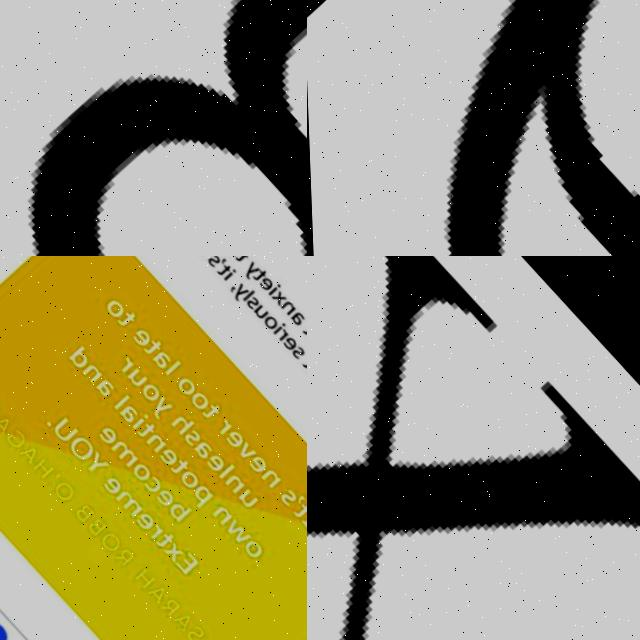8: (0, 0, 307, 256)
9: (307, 0, 640, 256)
A: (168, 603, 191, 627), (143, 575, 165, 598), (16, 439, 38, 462), (116, 397, 138, 419), (190, 431, 211, 454), (149, 342, 170, 364), (92, 372, 114, 393), (286, 300, 306, 320), (0, 410, 10, 432)
B: (163, 490, 189, 517), (82, 511, 103, 533), (71, 497, 91, 519)
C: (140, 468, 161, 490)
D: (66, 339, 93, 366)
E: (171, 543, 196, 570), (221, 419, 244, 443), (98, 469, 121, 493), (151, 479, 173, 503), (129, 320, 151, 343), (202, 444, 224, 467), (244, 445, 266, 467), (132, 504, 154, 526), (95, 418, 116, 441), (156, 439, 177, 461), (280, 325, 298, 343), (257, 266, 273, 284)
G: (2, 424, 25, 447)
H: (167, 403, 192, 430), (29, 453, 51, 476), (130, 562, 152, 583)
I: (128, 405, 149, 426), (220, 259, 237, 275), (297, 496, 307, 519), (271, 312, 285, 327), (266, 273, 280, 287)
L: (162, 350, 181, 370), (215, 454, 233, 473), (111, 387, 129, 405), (240, 280, 255, 294)
M: (108, 433, 136, 463), (112, 482, 140, 512)
N: (220, 463, 244, 488), (78, 356, 102, 380), (257, 458, 280, 482), (142, 425, 165, 449), (208, 496, 230, 519), (278, 289, 297, 308)
O: (63, 427, 94, 461), (172, 367, 197, 393), (95, 524, 119, 550), (102, 291, 126, 316), (238, 528, 262, 553), (127, 454, 151, 479), (49, 475, 73, 500), (185, 382, 209, 406), (137, 374, 161, 398), (175, 460, 198, 485), (260, 304, 278, 323)
P: (184, 474, 211, 502)
R: (156, 590, 177, 611), (111, 541, 131, 562), (114, 349, 133, 368), (212, 410, 231, 429), (144, 518, 160, 534), (274, 319, 289, 334)
S: (179, 419, 200, 441), (275, 477, 296, 499), (182, 617, 202, 638), (288, 335, 305, 352), (244, 287, 258, 302), (204, 256, 221, 262)
T: (114, 302, 137, 326), (132, 412, 155, 436), (150, 522, 173, 545), (198, 392, 220, 415), (139, 329, 161, 352), (166, 449, 188, 471), (288, 488, 307, 512), (251, 258, 267, 275), (215, 256, 231, 271), (300, 344, 307, 362), (300, 311, 307, 328)
U: (47, 410, 77, 442), (123, 361, 146, 384), (235, 479, 255, 502), (251, 294, 268, 313), (113, 634, 129, 640)
V: (233, 433, 255, 455)
W: (220, 509, 249, 539)
X: (307, 256, 640, 640), (160, 534, 182, 557), (269, 279, 287, 298)
Y: (79, 444, 107, 473), (147, 389, 171, 415), (228, 273, 250, 295), (238, 256, 260, 273)
